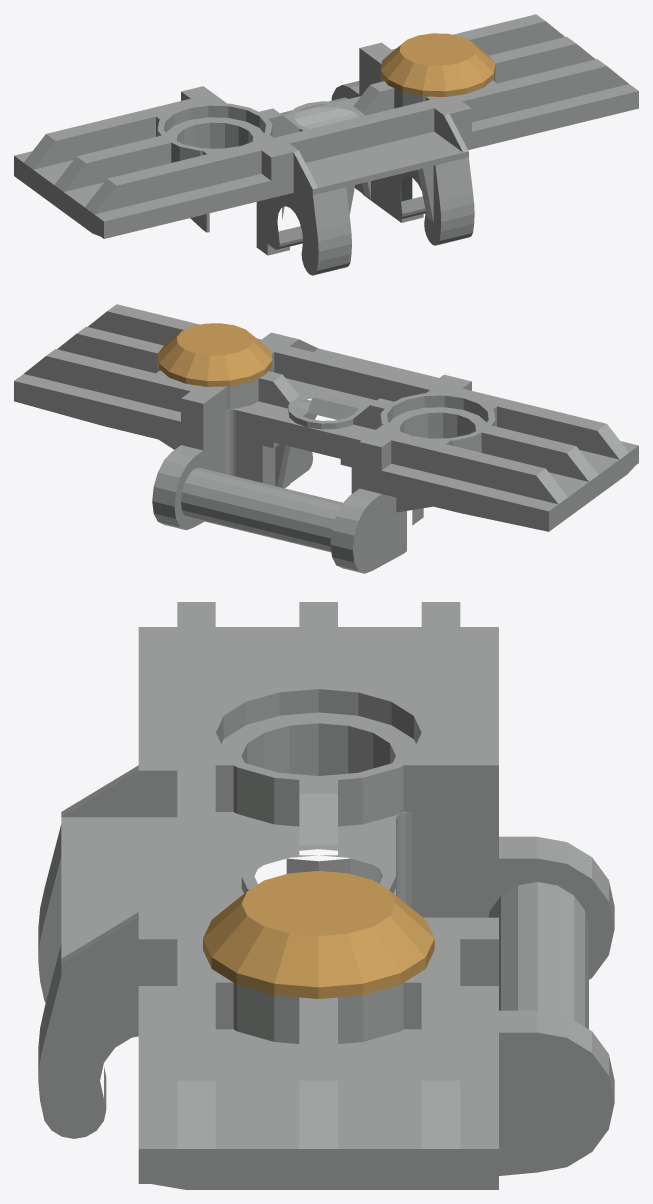
3 views of the same model, one above another, from view 1: azimuth 30°, elevation 25°; view 2: azimuth 150°, elevation 25°; view 3: azimuth 270°, elevation 25° (orthographic). The views are drawn at different scales.
Parts seen in each view (by area): view 1: world; view 2: world; view 3: world.
Boxes of the visible parts, box(x1,y1,x2,y2) form: world: box(14, 14, 638, 275); world: box(14, 304, 638, 573); world: box(38, 602, 614, 1189).
Size of the model in its own units: 0.0384 by 0.01 by 0.0179.
